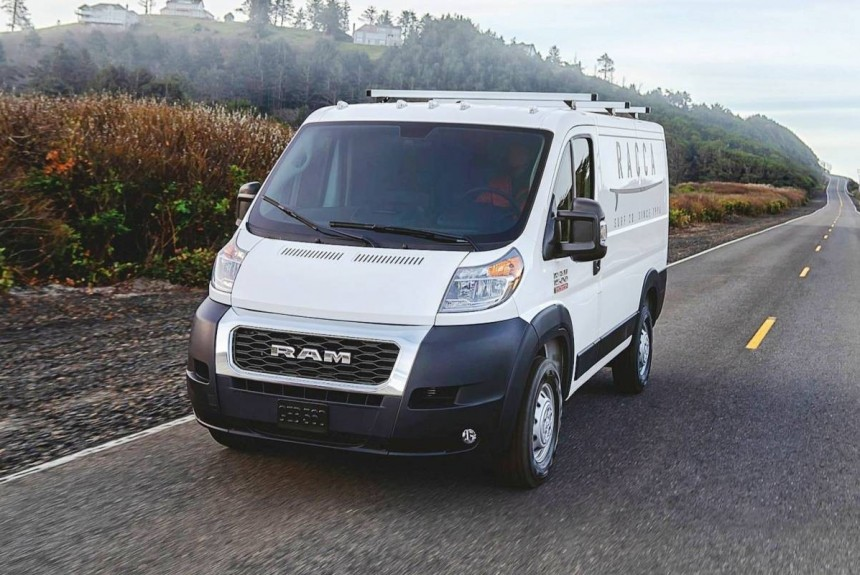van: (185, 89, 673, 487)
